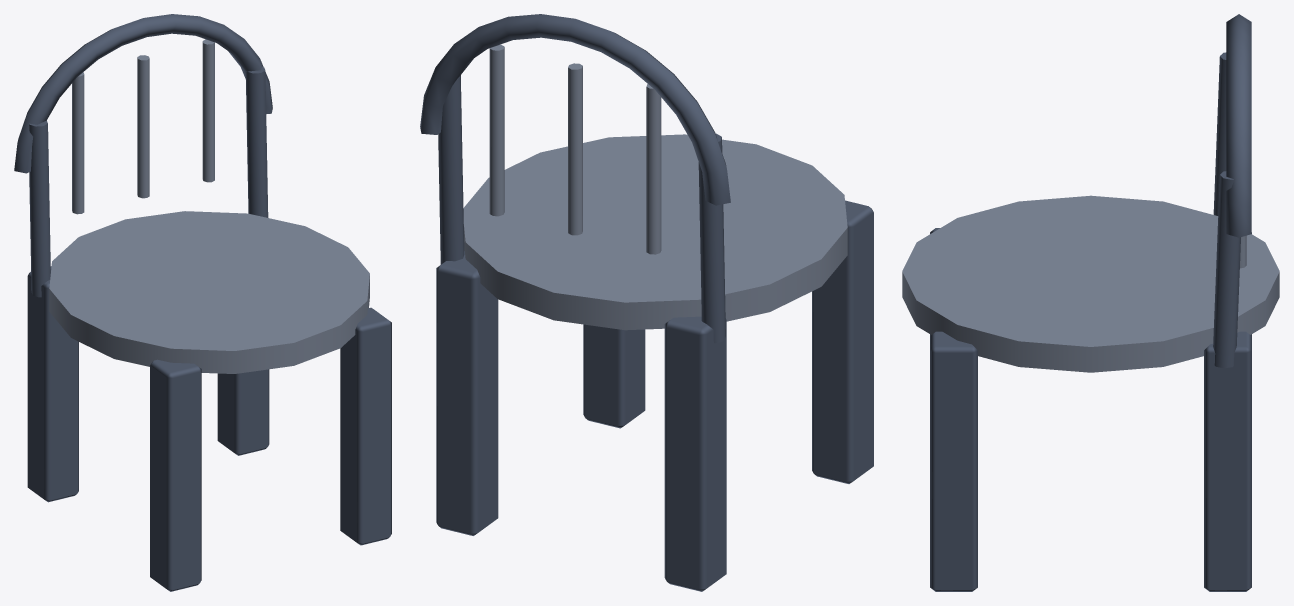
File: garden-chair-bistro-lite.glb
3 views of the same model, side by side, from view 1: azimuth 30°, elevation 25°; view 2: azimuth 150°, elevation 25°; view 3: azimuth 270°, elevation 25° (orthographic). The views are drawn at different scales.
Parts seen in each view (by area): view 1: garden-chair-bistro; view 2: garden-chair-bistro; view 3: garden-chair-bistro.
Part boxes in pixels (x1,y1,x2,y2): garden-chair-bistro: (14,14,391,591); garden-chair-bistro: (420,14,873,591); garden-chair-bistro: (902,14,1279,591).
Bounding box in the file's own units: 0.55 × 0.85 × 0.58.
